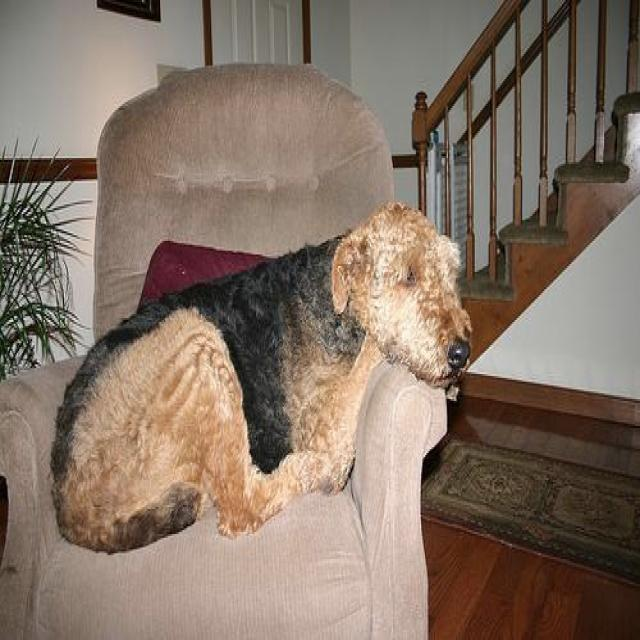airedale: (52, 204, 466, 552)
